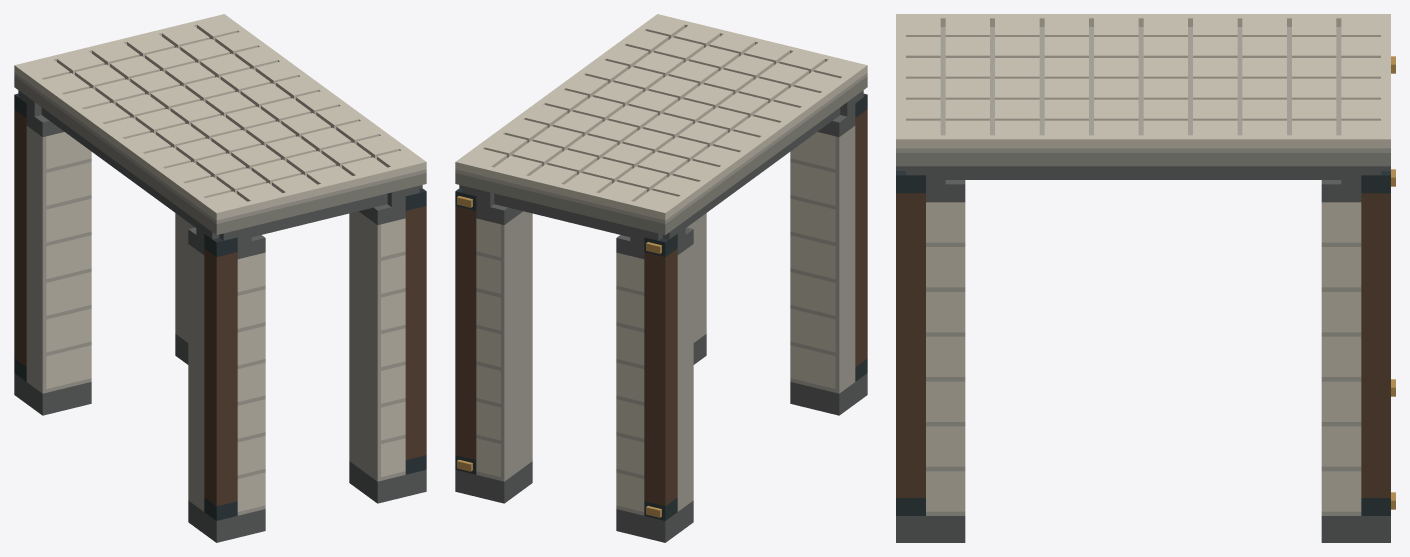
3 views of the same model, side by side, from view 1: azimuth 30°, elevation 25°; view 2: azimuth 150°, elevation 25°; view 3: azimuth 270°, elevation 25° (orthographic). The views are drawn at different scales.
Parts seen in each view (by area): view 1: 旧工坊门侧装卸石台; view 2: 旧工坊门侧装卸石台; view 3: 旧工坊门侧装卸石台.
Boxes of the visible parts, box(x1,y1,x2,y2) form: 旧工坊门侧装卸石台: box(14, 14, 426, 542); 旧工坊门侧装卸石台: box(455, 14, 867, 542); 旧工坊门侧装卸石台: box(896, 14, 1395, 542).
Size of the model in its own units: 2.4 by 3.6 by 4.04.
7 materials, 7 textured.
